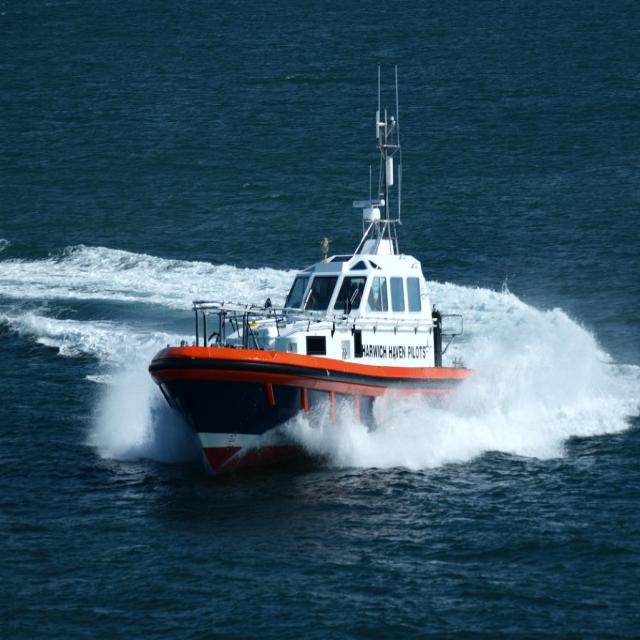houseboat: (146, 104, 470, 468)
